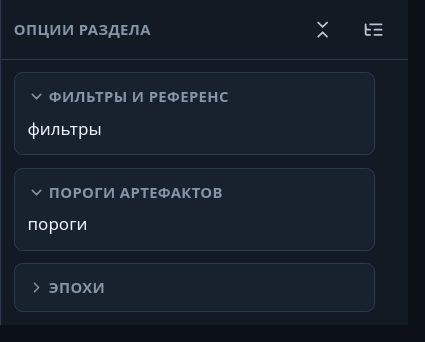
it: хедер панели: триггер «все секции» › первый клик сворачивает все секции разом и меняет подпись кнопки
Click the button named "Свернуть все секции". click: (323, 29)
box: [302,8,344,50]
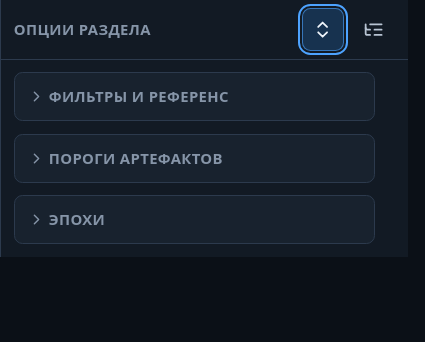
Check: the button "Фильтры и референс" is collapsed, box [28,86,353,107]
Check: the button "Пороги артефактов" is collapsed, box [28,148,353,169]
Check: the button named "Развернуть все секции" is shown, box [302,8,344,50]
